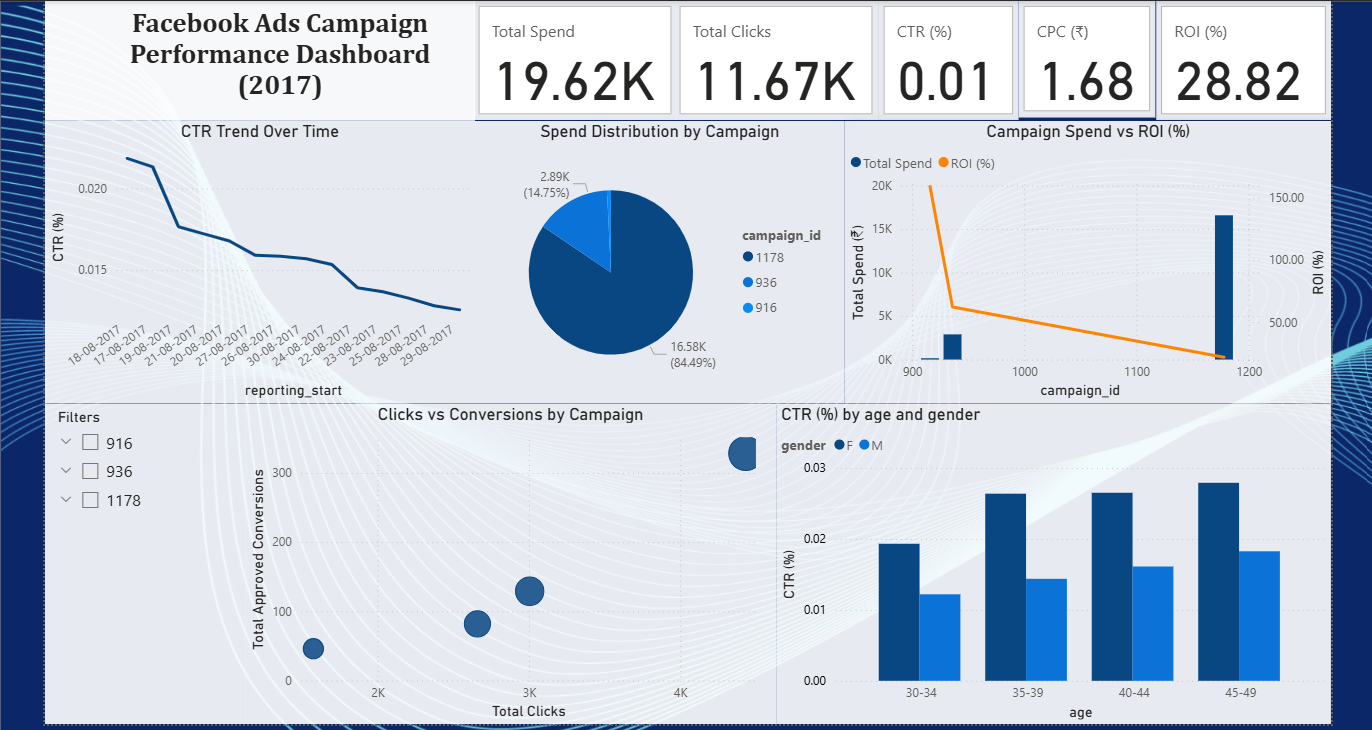

Layout of this report page (visuals, bound fields, positions):
{"tool":"powerbi","page":{"name":"Page 1","canvas":[1280,720],"ordinal":0},"visuals":[{"type":"cardVisual","fields":{"Data":["data.Total Spend","data.Total Clicks"]},"box":[426.8,0,403.3,118.8],"z":0},{"type":"cardVisual","fields":{"Data":["data.ROI (%)"]},"box":[1105.8,0,174.5,118.8],"z":1000},{"type":"cardVisual","fields":{"Data":["data.CTR (%)"]},"box":[830.1,0,139.3,118.8],"z":2000},{"type":"cardVisual","fields":{"Data":["data.CPC (₹)"]},"box":[969.4,0,136.4,115.9],"z":3000},{"type":"textbox","box":[0,0,427.9,119.4],"z":4000},{"type":"lineClusteredColumnComboChart","title":"Campaign Spend vs ROI (%)","fields":{"Category":["data.campaign_id"],"Y":["data.Total Spend"],"Y2":["data.ROI (%)"]},"box":[796.1,119.4,483.9,281.1],"z":5000},{"type":"lineChart","title":"CTR Trend Over Time","fields":{"Y":["data.CTR (%)"],"Category":["data.reporting_start"]},"box":[0,118.9,428.1,281.2],"z":6000},{"type":"pieChart","title":"Spend Distribution by Campaign","fields":{"Y":["data.Total Spend"],"Category":["data.campaign_id"]},"box":[428.1,118.9,367.9,281.2],"z":7000},{"type":"scatterChart","title":"Clicks vs Conversions by Campaign","fields":{"X":["data.Total Clicks"],"Y":["data.Total Approved Conversions"],"Size":["data.Total Spend"],"Category":["data.age","data.campaign_id"]},"box":[199,400.6,528.7,319.7],"z":8000},{"type":"slicer","fields":{"Values":["data.campaign_id","data.age","data.gender","data.reporting_start"]},"box":[0,400.6,199,319.7],"z":9000},{"type":"clusteredColumnChart","fields":{"Y":["data.CTR (%)"],"Category":["data.age"],"Series":["data.gender"]},"box":[727.7,400.6,552.3,319.7],"z":9001}]}

Visuals, with their boxes in screenshot pixels (x1, y1, x2, y2):
cardVisual - data.Total Spend x data.Total Clicks: x1=469, y1=0, x2=872, y2=119
cardVisual - data.ROI (%): x1=1147, y1=0, x2=1321, y2=119
cardVisual - data.CTR (%): x1=872, y1=0, x2=1011, y2=119
cardVisual - data.CPC (₹): x1=1011, y1=0, x2=1147, y2=116
textbox: x1=43, y1=0, x2=470, y2=119
"Campaign Spend vs ROI (%)" lineClusteredColumnComboChart: x1=838, y1=119, x2=1321, y2=400
"CTR Trend Over Time" lineChart: x1=43, y1=119, x2=470, y2=399
"Spend Distribution by Campaign" pieChart: x1=470, y1=119, x2=838, y2=399
"Clicks vs Conversions by Campaign" scatterChart: x1=242, y1=400, x2=769, y2=719
slicer - data.campaign_id x data.age: x1=43, y1=400, x2=242, y2=719
clusteredColumnChart - data.CTR (%) x data.age: x1=769, y1=400, x2=1321, y2=719
